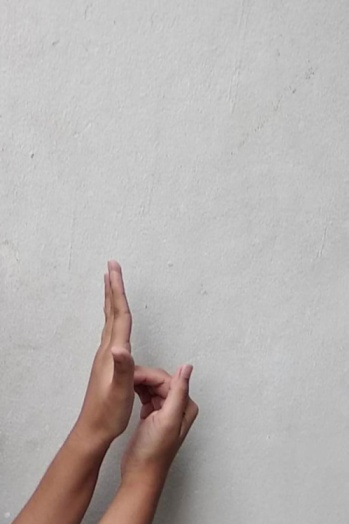ga: (84, 259, 195, 470)
